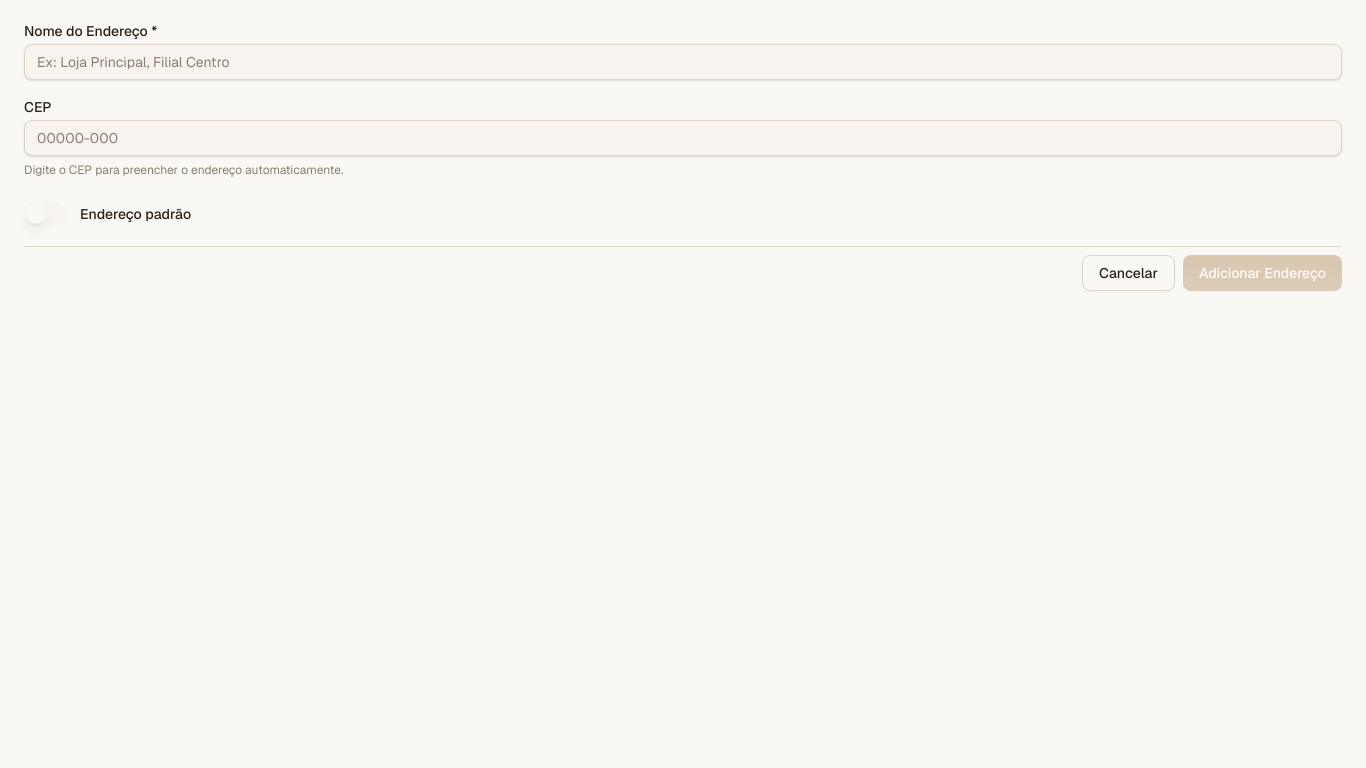
Test case: StoreAddressForm › renders ViaCEP-owned fields as read-only after resolution
This screenshot has width=1366, height=768.
In the field labelled "CEP": (683, 138) [24, 120, 1342, 156], type "01310100"
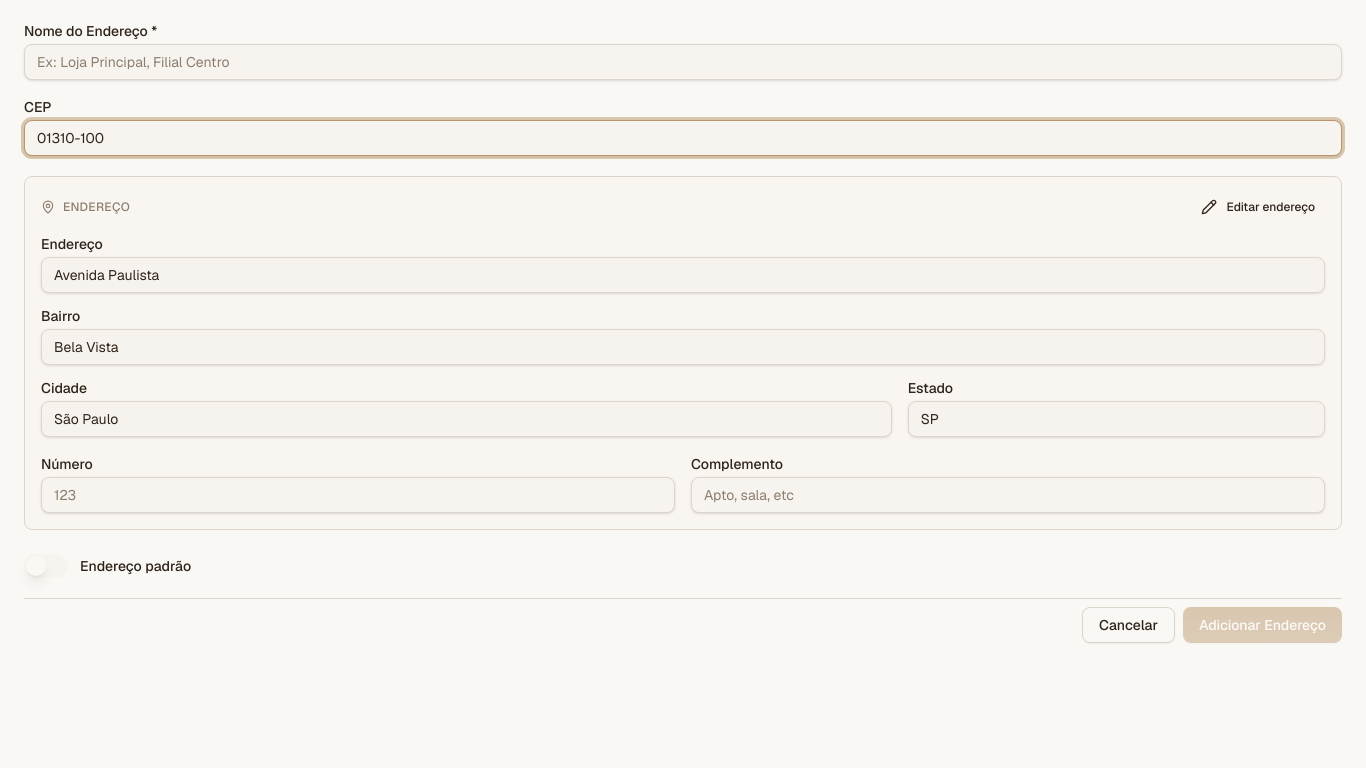
expect the field labelled "Endereço" holds "Avenida Paulista": met, box [41, 257, 1325, 293]
